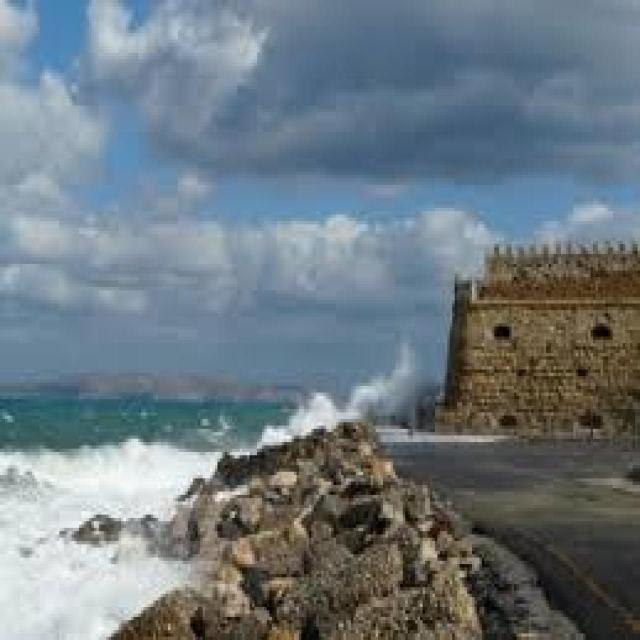Kules: (431, 231, 640, 439)
